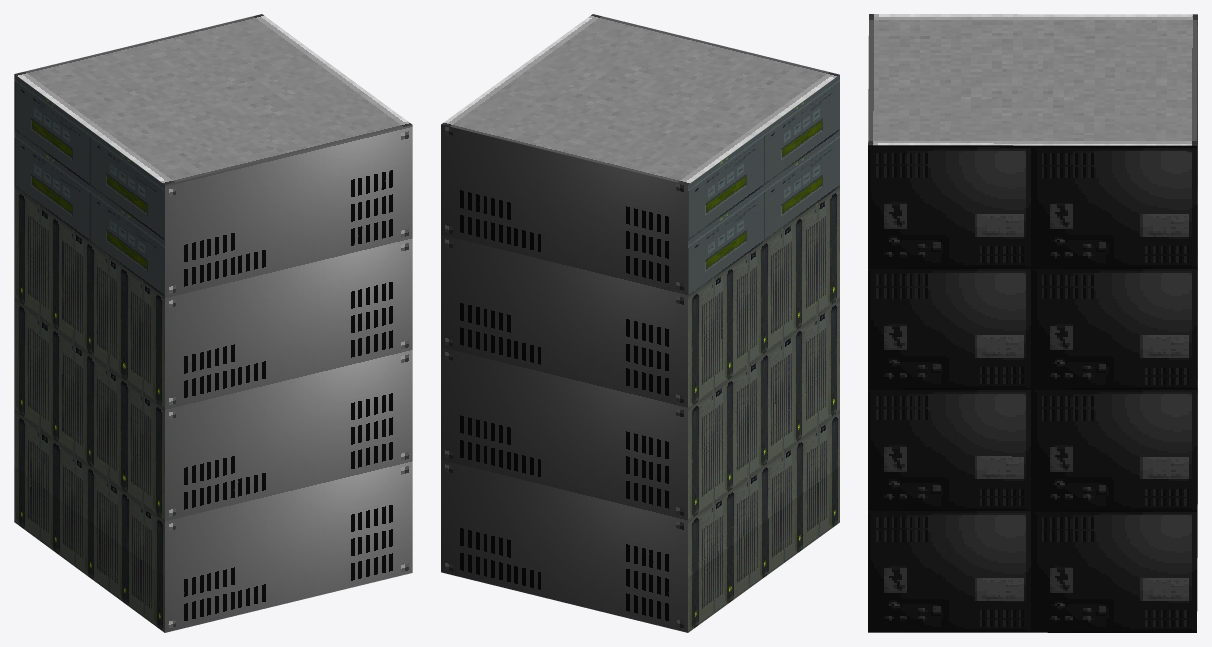
Rendered from primary_069.glb.
3 views of the same model, side by side, from view 1: azimuth 30°, elevation 25°; view 2: azimuth 150°, elevation 25°; view 3: azimuth 270°, elevation 25° (orthographic). The views are drawn at different scales.
Parts seen in each view (by area): view 1: Object; view 2: Object; view 3: Object.
Boxes of the visible parts, left/top/right/bottom form: Object: left=14, top=14, right=412, bottom=632; Object: left=441, top=14, right=839, bottom=632; Object: left=868, top=14, right=1197, bottom=632.
Bounding box in the file's own units: 1.55 × 2.68 × 1.64.
Materials: 9 (9 with a texture image).
